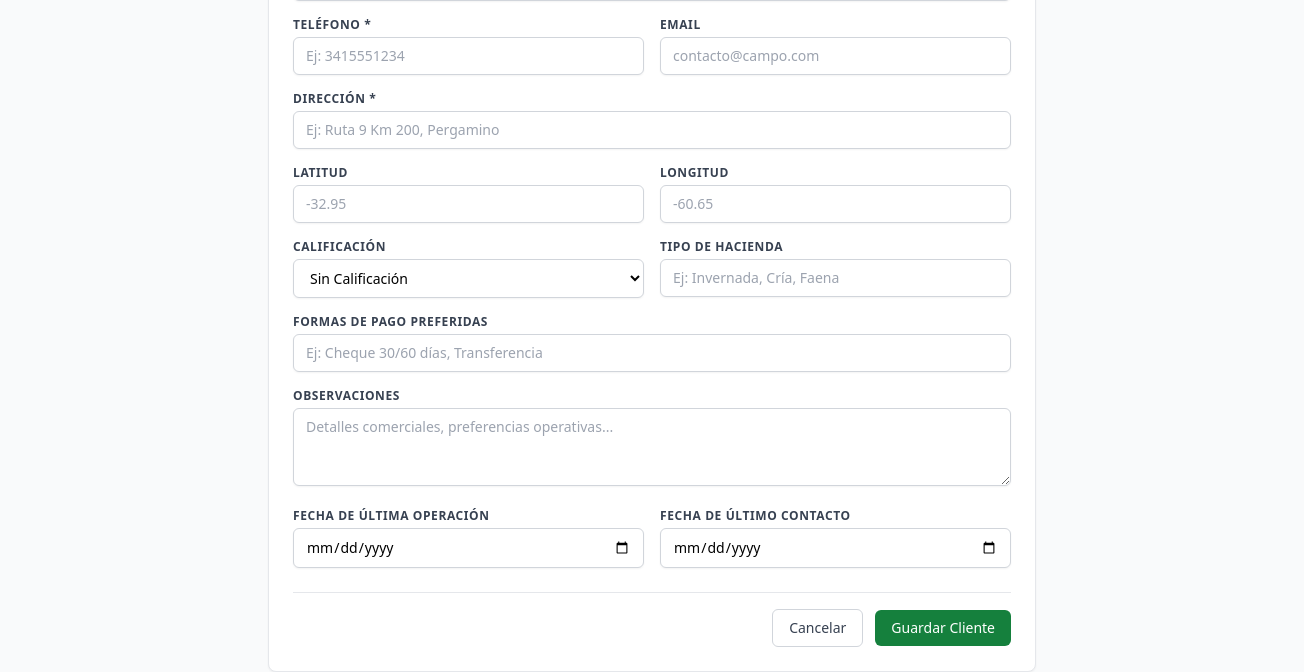
Test: ClientesPage › renders ClienteForm when initialVista is alta and returns to lista on Cancel
(page scrolled)
Click the button "Cancelar" at (818, 628), box x1=772 y1=609 x2=863 y2=647
(page scrolled)
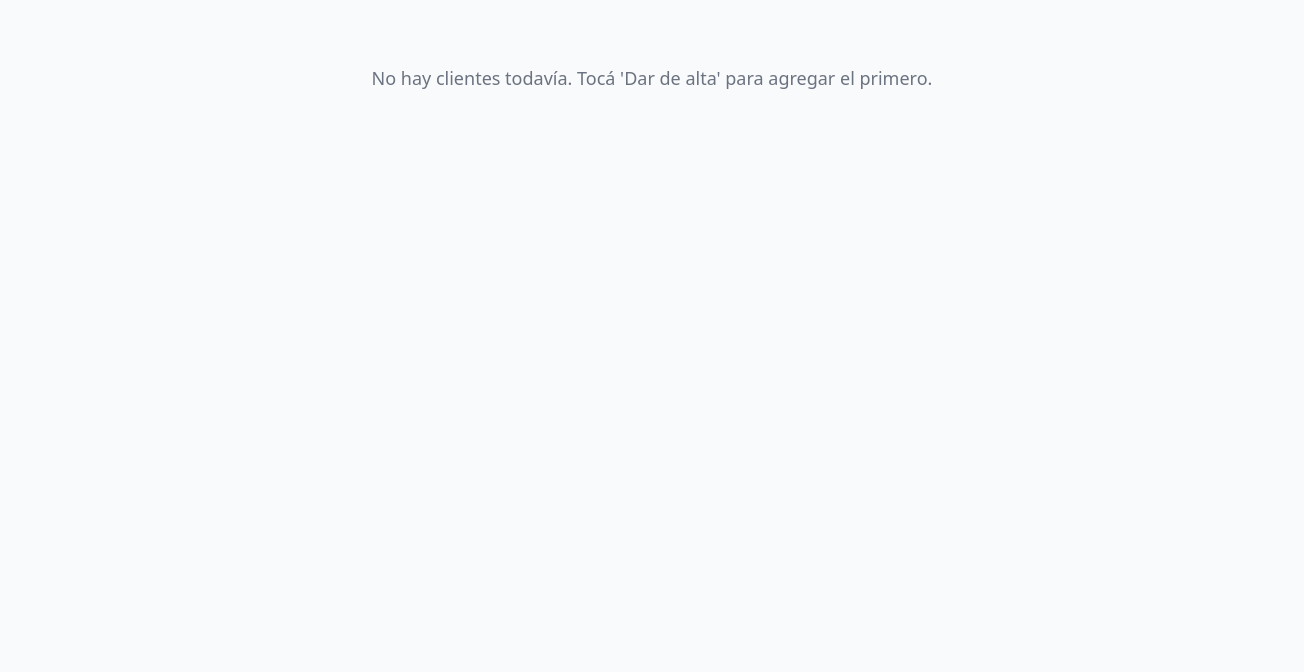
Expected: the text "No hay clientes todavía. Tocá 'Dar de alta' para agregar el primero." is shown, x1=372 y1=66 x2=932 y2=90
